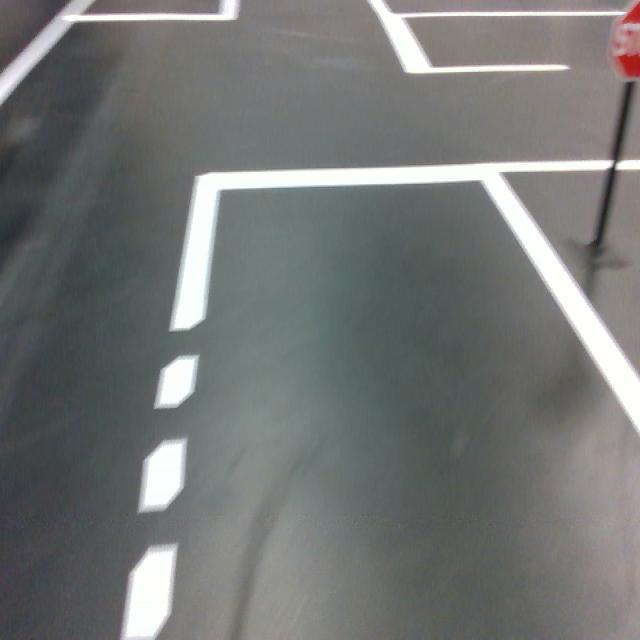stop-sign: (605, 0, 640, 84)
